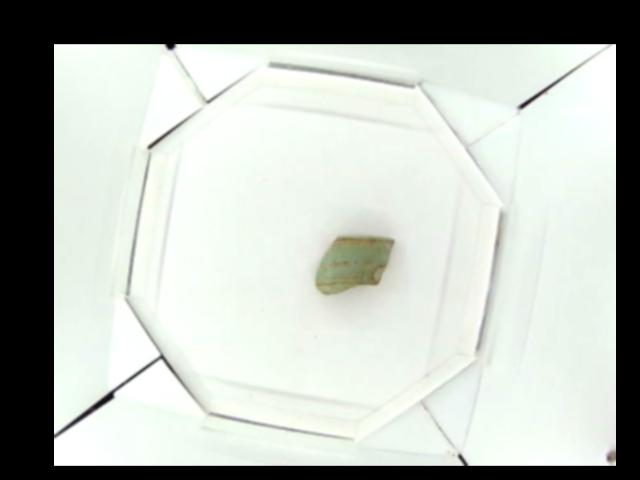China: (315, 228, 395, 299)
